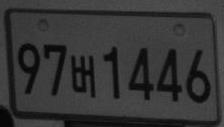1: (100, 45, 126, 99)
4: (127, 46, 154, 101), (156, 48, 183, 102)
6: (185, 48, 212, 105)
7: (43, 43, 68, 95)
9: (16, 41, 40, 95)
버: (69, 54, 96, 98)
